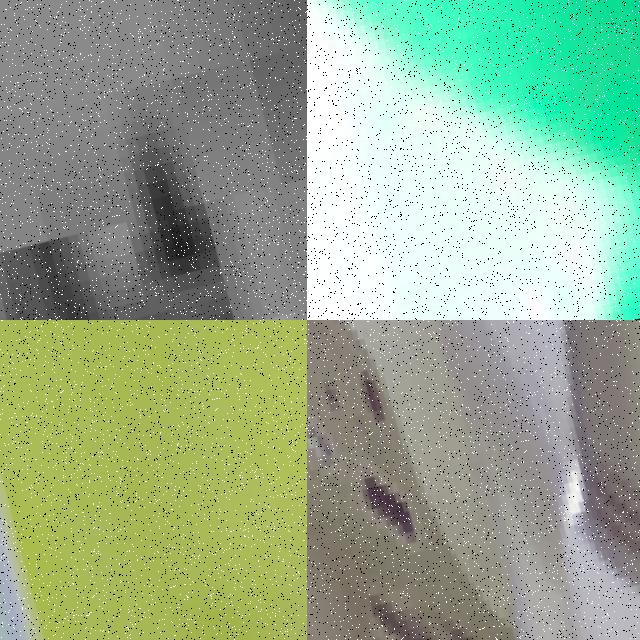0: (0, 0, 307, 320)
drone: (307, 0, 640, 320), (307, 320, 640, 640), (0, 320, 307, 640)
